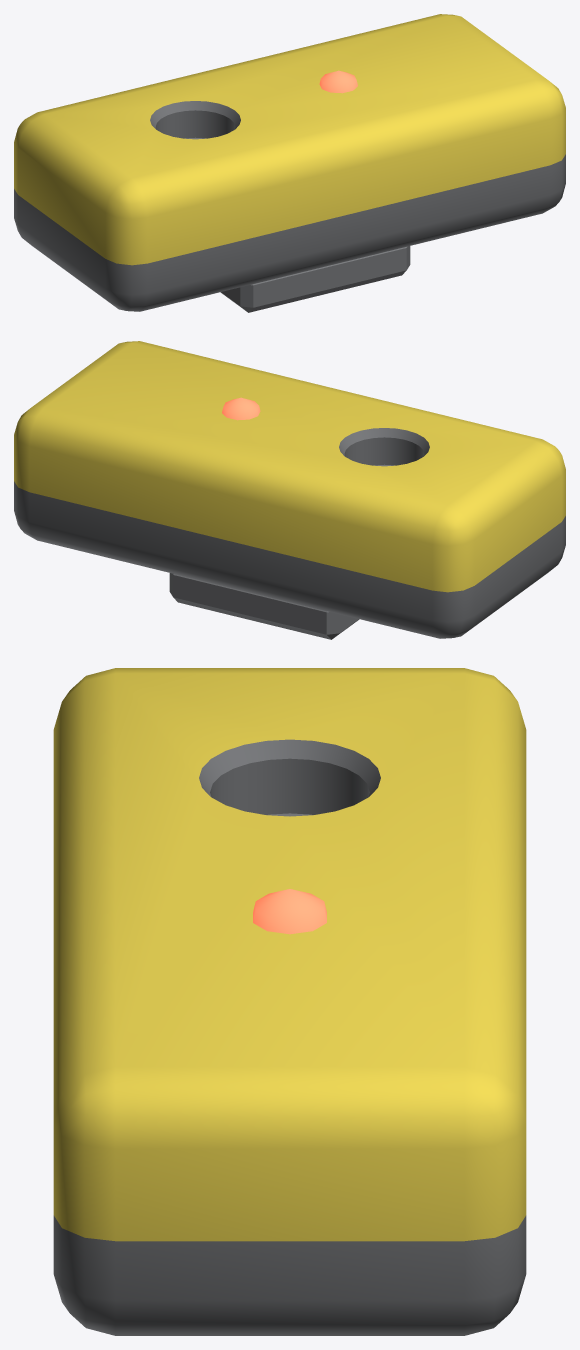
File: si-unit.glb
3 renders of one model, top to bottom at view 1: azimuth 30°, elevation 25°; view 2: azimuth 150°, elevation 25°; view 3: azimuth 270°, elevation 25°, orthographic. The views are drawn at different scales.
Parts seen in each view (by area): view 1: si-unit_LOD0; view 2: si-unit_LOD0; view 3: si-unit_LOD0.
Part boxes in pixels (x1,y1,x2,y2): si-unit_LOD0: (14,14,565,312); si-unit_LOD0: (14,341,565,639); si-unit_LOD0: (53,668,526,1335).
Size of what is drawn, in the model's own units: 0.145 by 0.0564 by 0.065.
